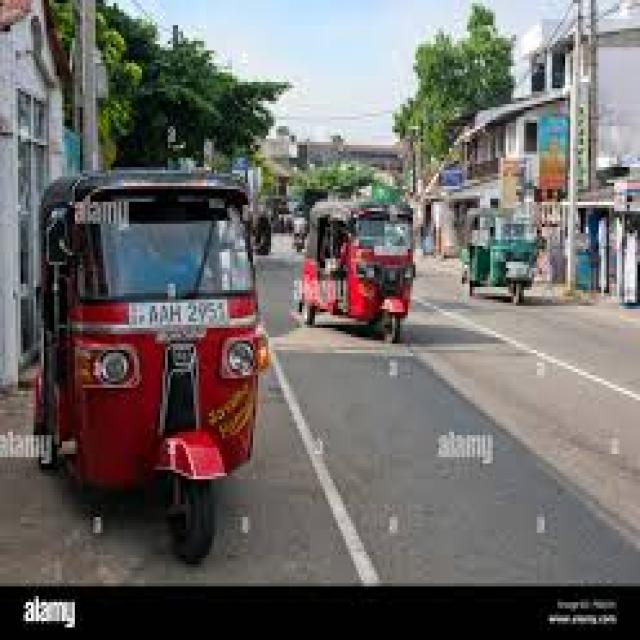three wheeler: (36, 170, 266, 561), (302, 202, 413, 340), (462, 208, 534, 303)
